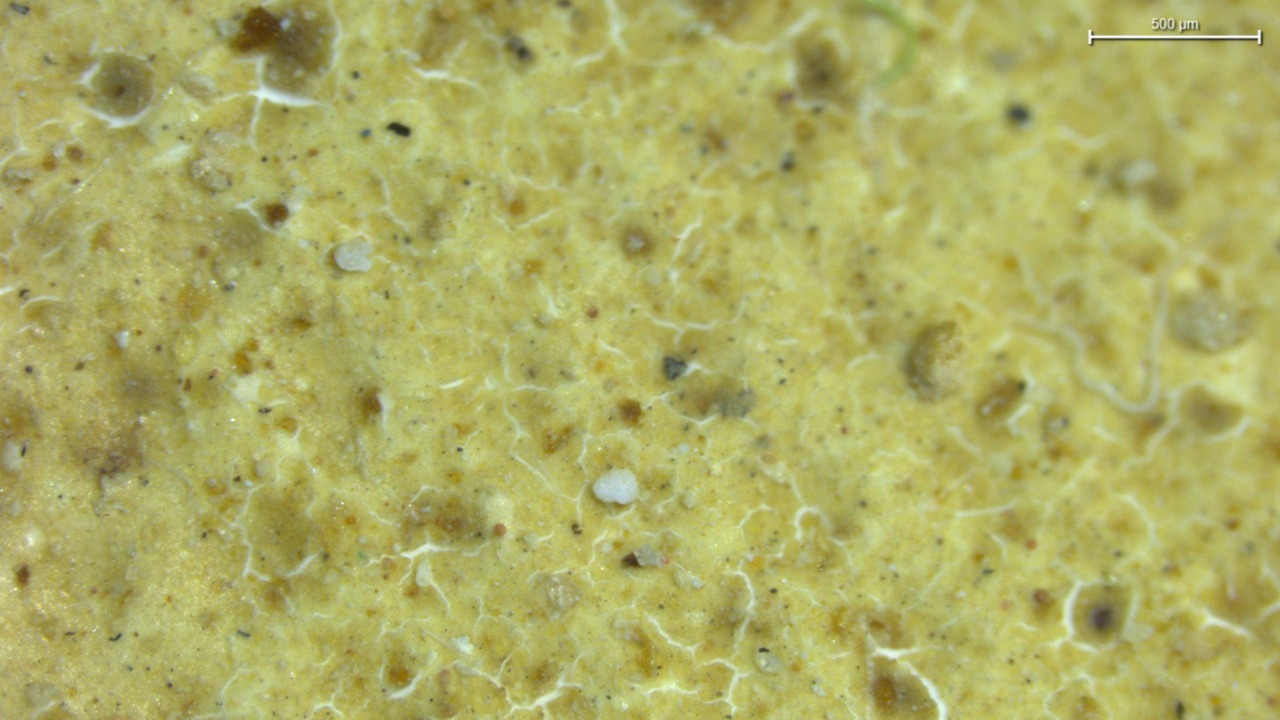microplastic_fragment: (592, 469, 638, 505), (333, 237, 373, 272)
